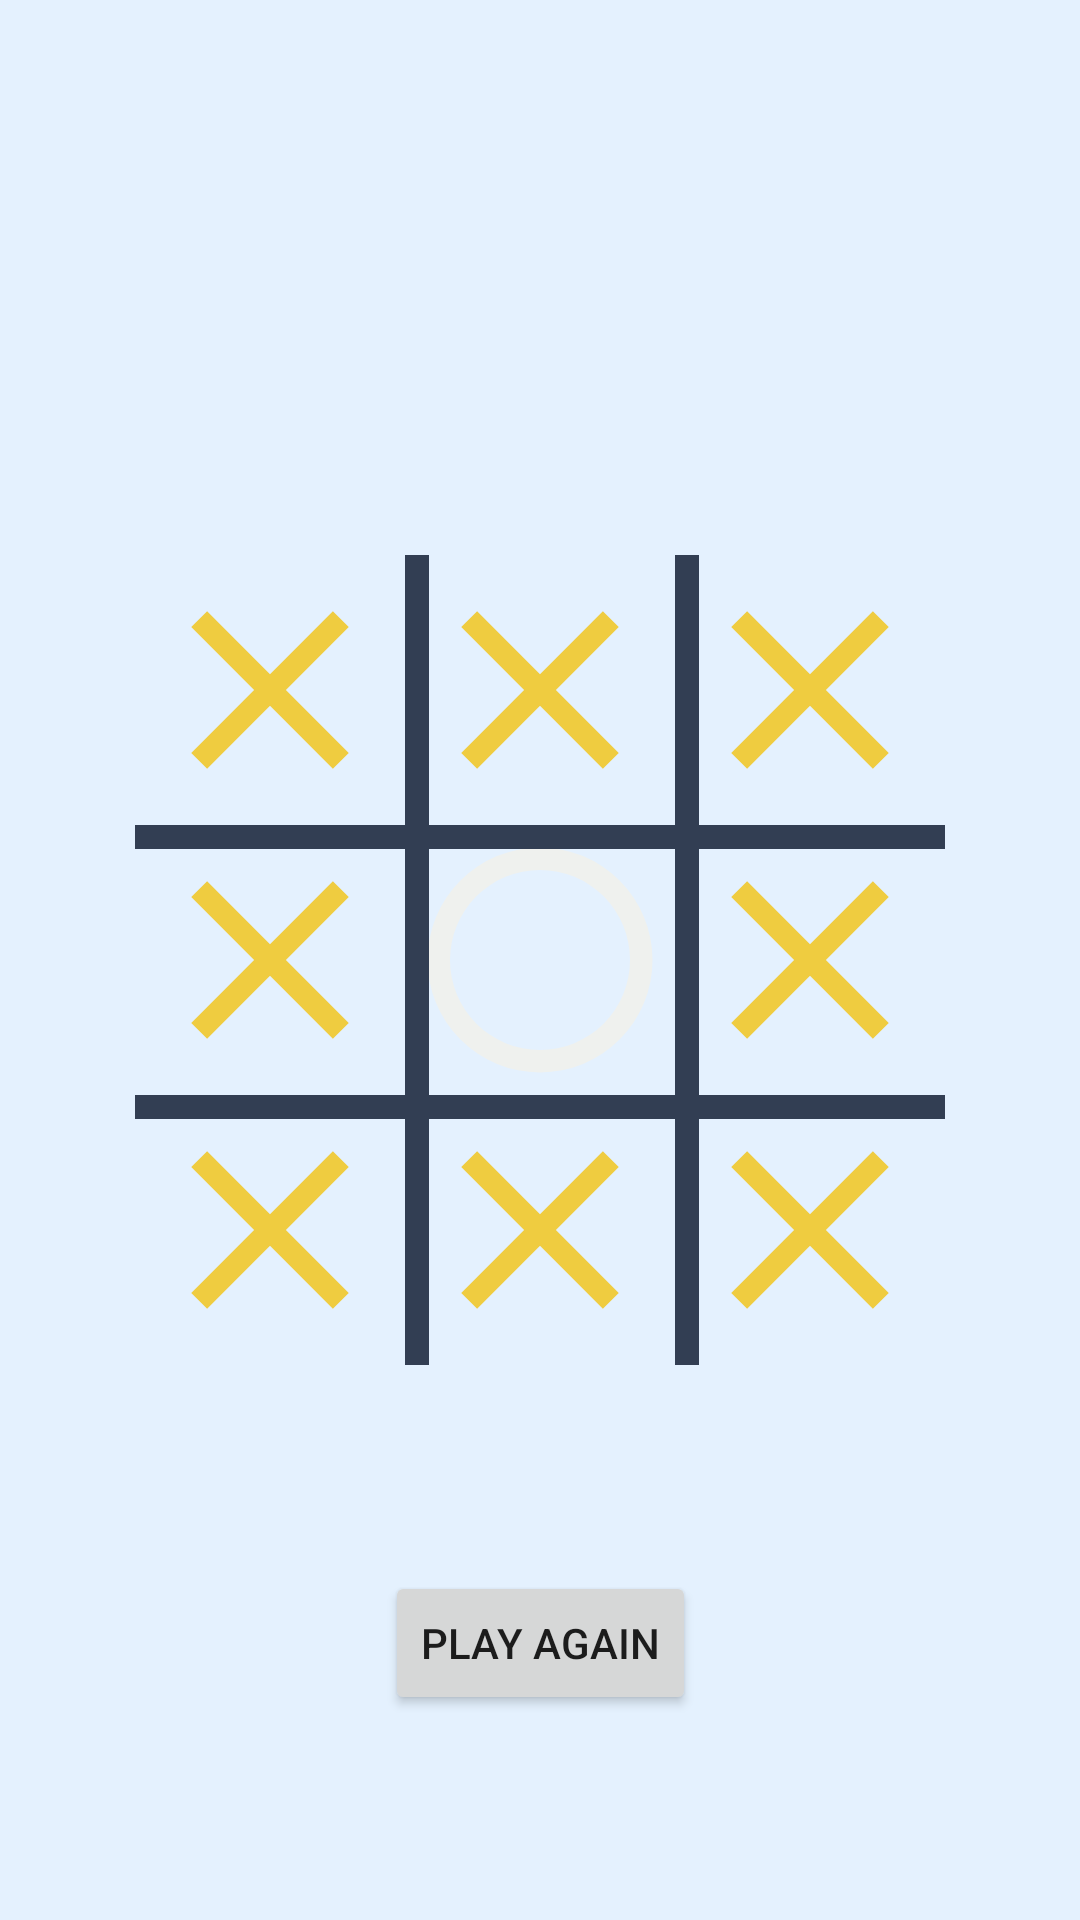

Named icons in this screenshot (1080x1920) and their centers, point (x, y):
circle: point (540, 960)
cross: point (540, 690), point (270, 690), point (810, 690), point (270, 960), point (810, 960), point (540, 1230), point (810, 1230), point (270, 1230)
